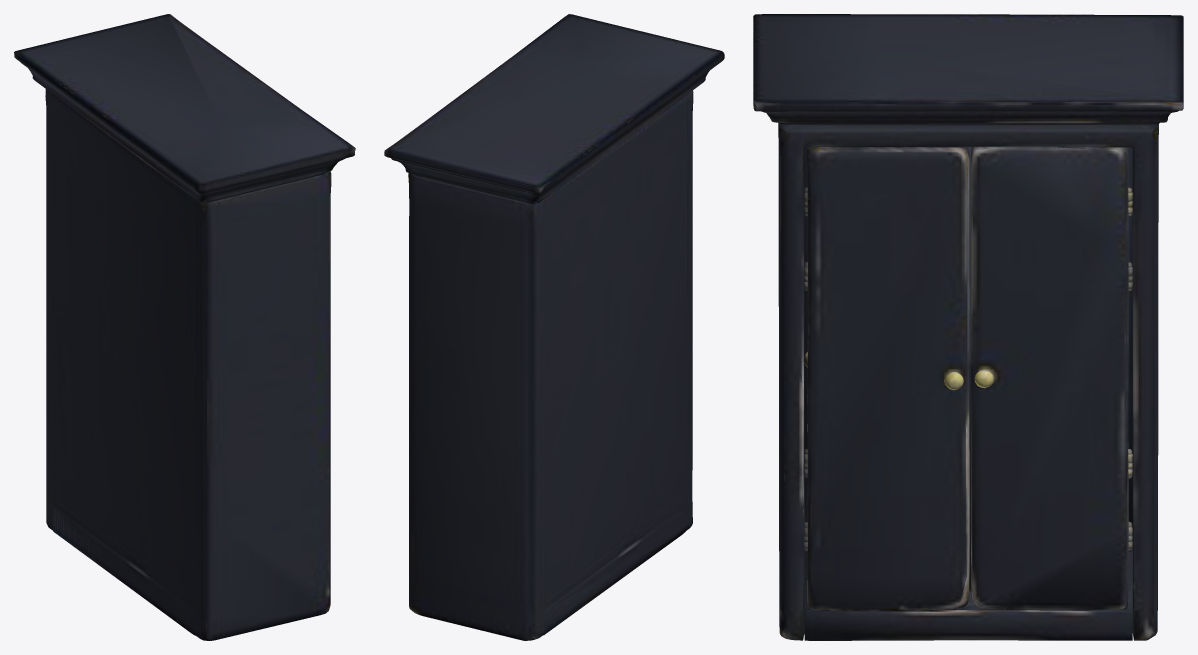
File: wardrobe.glb
3 views of the same model, side by side, from view 1: azimuth 30°, elevation 25°; view 2: azimuth 150°, elevation 25°; view 3: azimuth 270°, elevation 25° (orthographic). The views are drawn at different scales.
Visible parts, largest first — view 1: Model; view 2: Model; view 3: Model.
Boxes of the visible parts, x1,y1,x2,y2 form: Model: (14, 14, 355, 640); Model: (384, 14, 724, 640); Model: (753, 14, 1183, 640).
Bounding box in the file's own units: 0.3608 × 0.9995 × 0.7153.
Materials: 1 (1 with a texture image).
